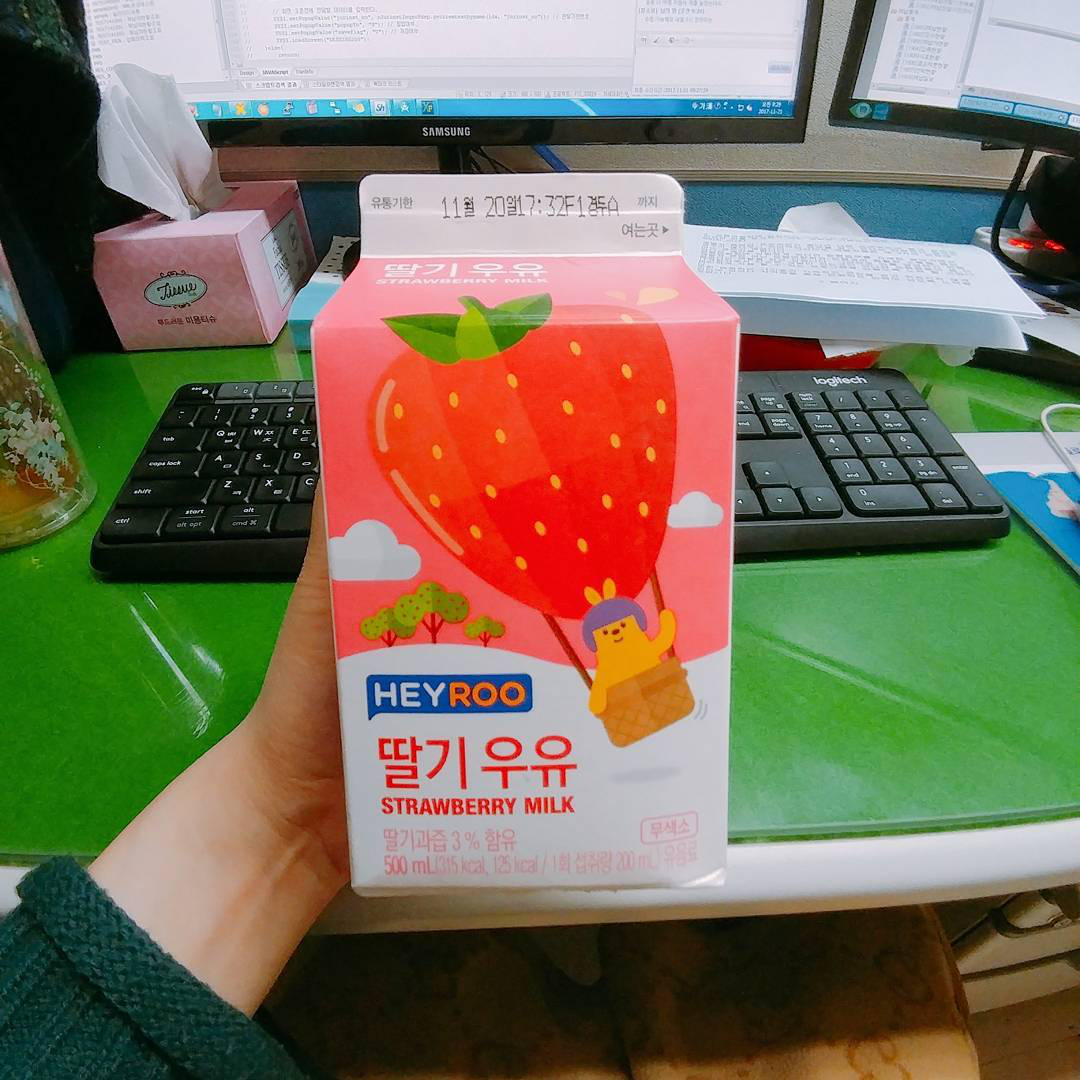milk: (309, 177, 745, 895)
